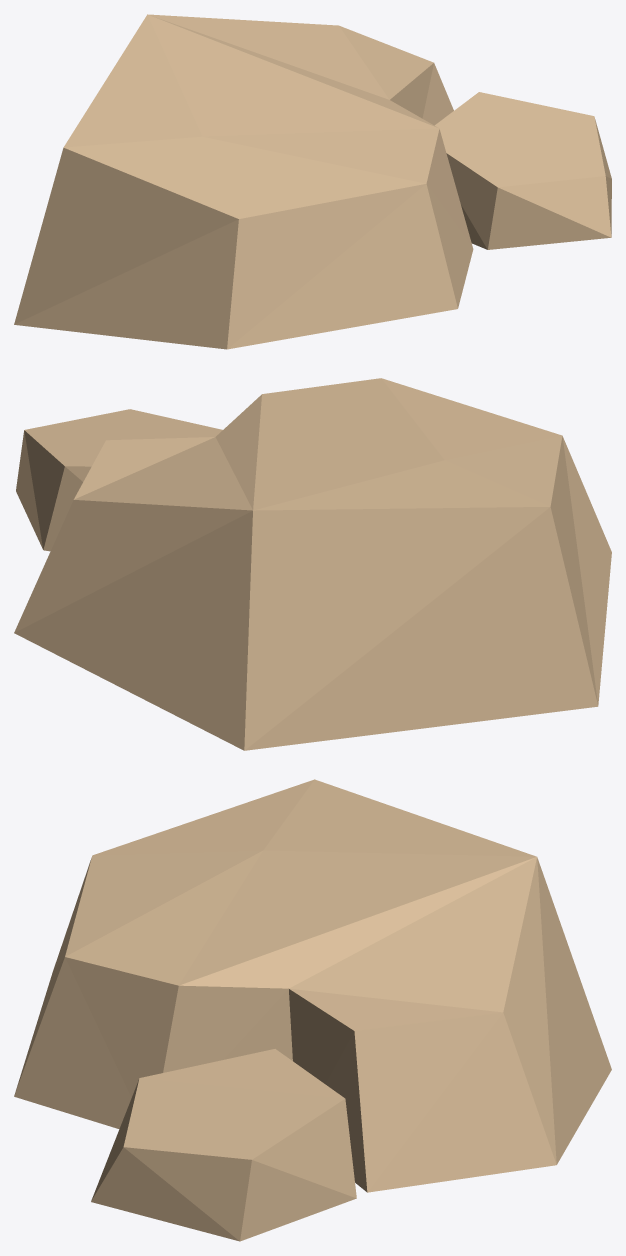
The model's file is Rock.obj.
3 renders of one model, top to bottom at view 1: azimuth 30°, elevation 25°; view 2: azimuth 150°, elevation 25°; view 3: azimuth 270°, elevation 25°, orthographic. The views are drawn at different scales.
Visible parts, largest first — view 1: Rock_Golf_no_trex.002; view 2: Rock_Golf_no_trex.002; view 3: Rock_Golf_no_trex.002.
Part boxes in pixels (box(x1,y1,x2,y2)): Rock_Golf_no_trex.002: box(14, 14, 611, 349); Rock_Golf_no_trex.002: box(14, 378, 611, 750); Rock_Golf_no_trex.002: box(14, 779, 611, 1241).
Size of the model in its own units: 0.0584 by 0.0194 by 0.0449.
